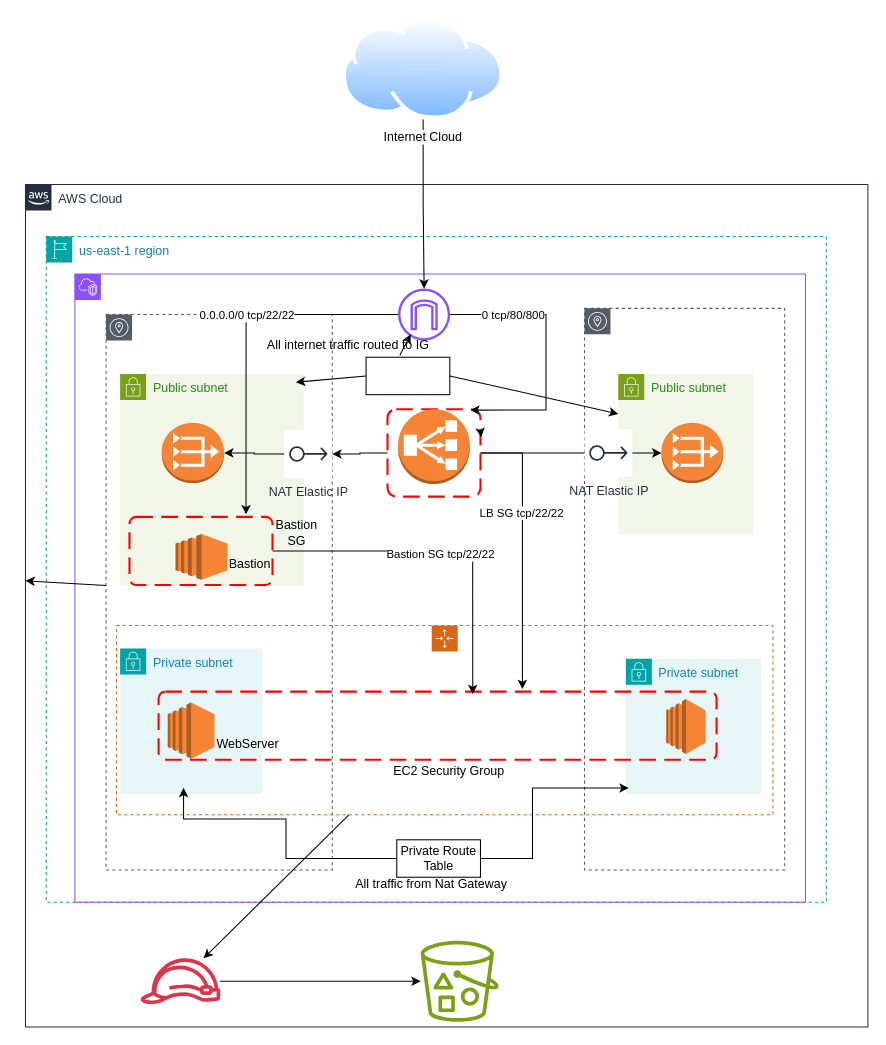
Image size: 886x1045. Some labels were removed from this diagram. Each missing label, with the box of its shape:
Auto Scaling group: (115, 625, 773, 815)
AZ1: (105, 314, 332, 870)
AZ2: (583, 307, 785, 870)
Public Route Table: (365, 356, 450, 395)
VPC: (74, 273, 805, 902)
